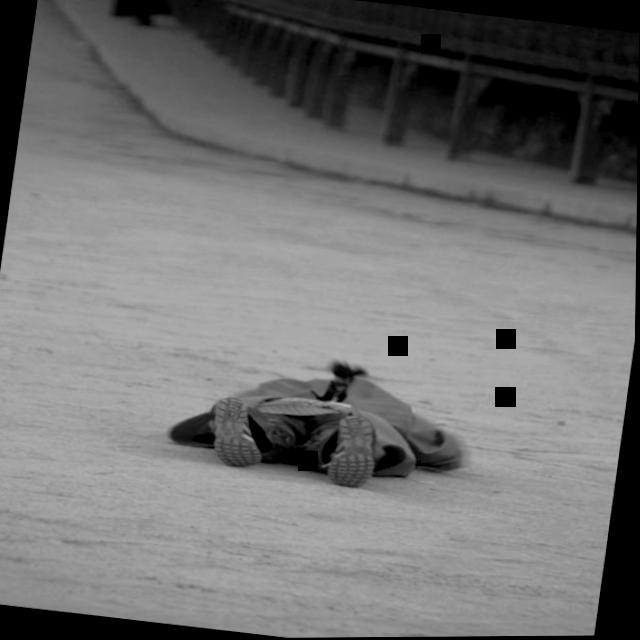Fall-Detected: (158, 330, 483, 513)
